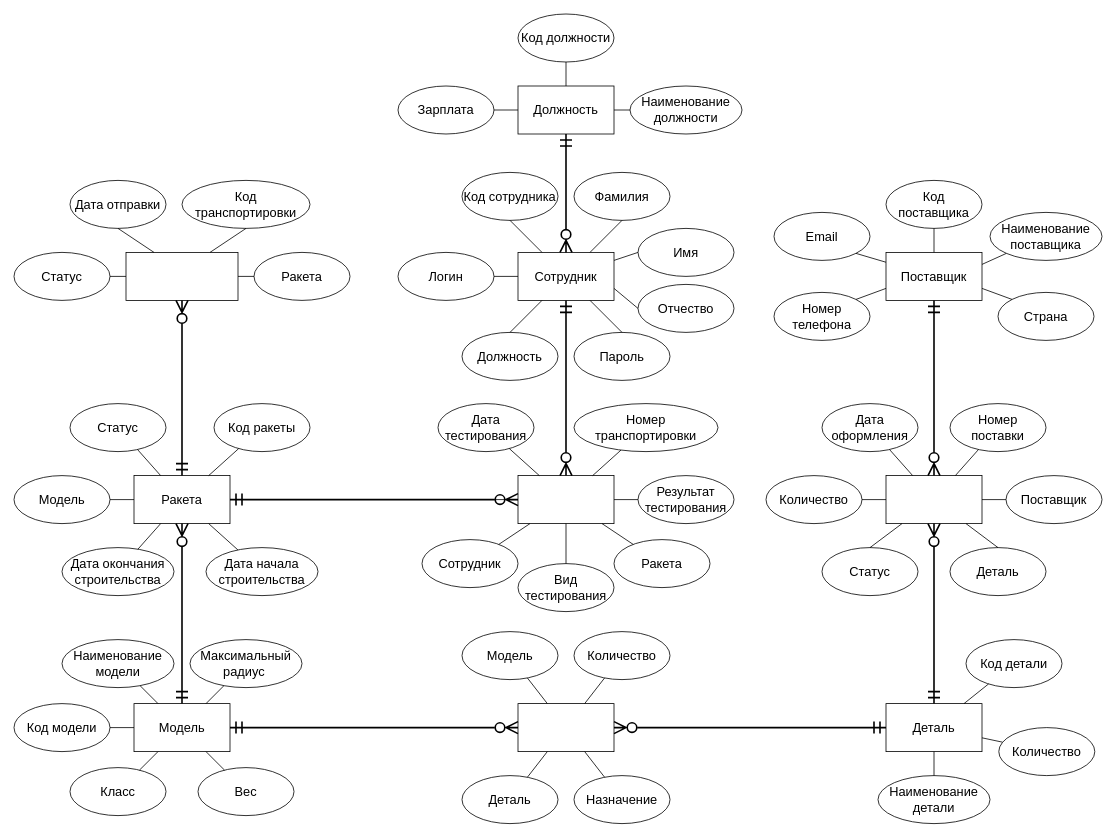
Some shapes in this 1116 by 838 pixel diagram are drawn without their labels. Here are the shapes that lost their labels. From the top down, the centre of each, then its label:
At (181,276): "Транспортировка".
At (565,499): "Тестирование".
At (933,499): "Поставка".
At (565,727): "Модель-Деталь".
